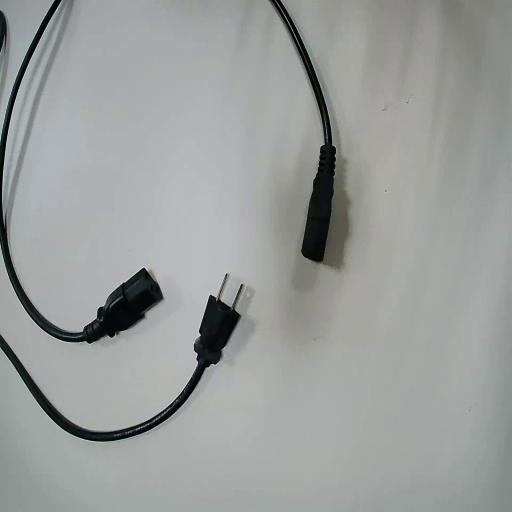wire: (0, 0, 161, 342), (0, 297, 239, 440), (271, 0, 335, 261)
